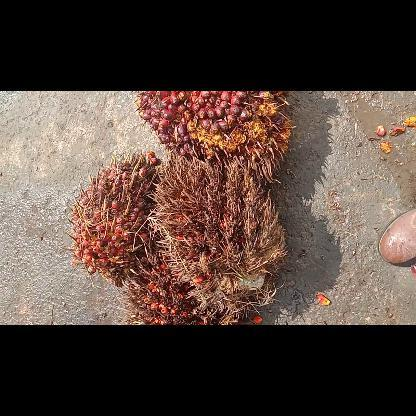TBS masak: (134, 91, 296, 183), (68, 150, 160, 286)
Terlalu masak: (146, 148, 286, 324), (116, 254, 212, 324)
